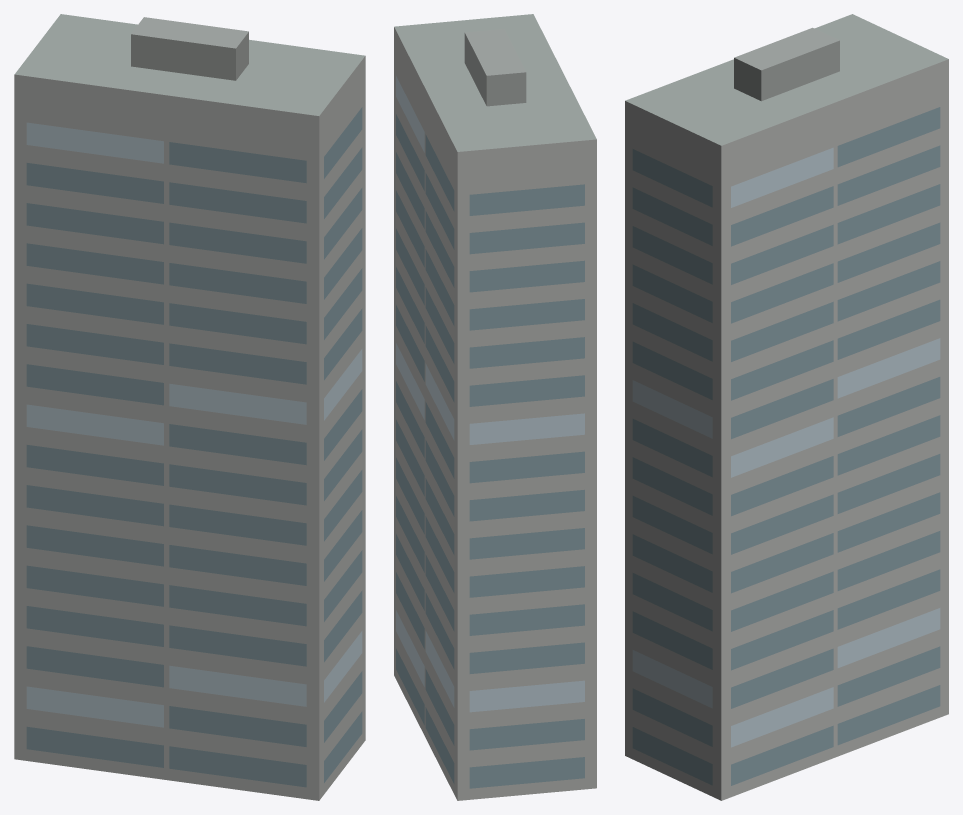
File: fallback-dmc-parkview-xi-extension-206.glb
The picture shows the model from 3 angles, left to right: view 1: azimuth 30°, elevation 25°; view 2: azimuth 150°, elevation 25°; view 3: azimuth 270°, elevation 25°; orthographic projection. The views are drawn at different scales.
Visible parts, largest first — view 1: fallback-dmc-parkview-xi-extension-206; view 2: fallback-dmc-parkview-xi-extension-206; view 3: fallback-dmc-parkview-xi-extension-206.
Part boxes in pixels (x1,y1,x2,y2): fallback-dmc-parkview-xi-extension-206: (14, 14, 365, 800); fallback-dmc-parkview-xi-extension-206: (394, 14, 596, 800); fallback-dmc-parkview-xi-extension-206: (625, 14, 948, 800).
Bounding box in the file's own units: 21.03 × 51 × 21.83.
